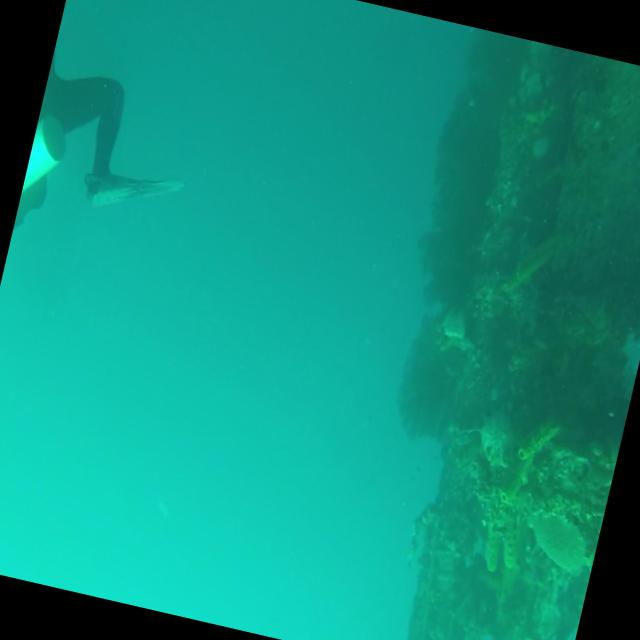human: (9, 0, 226, 277)
